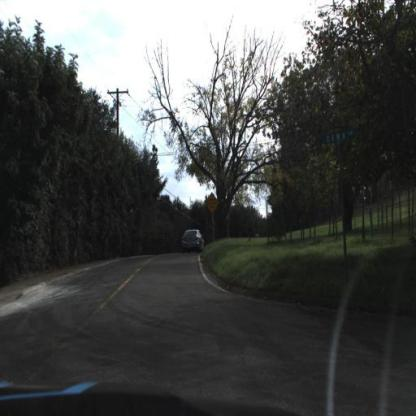car: (181, 223, 203, 253)
